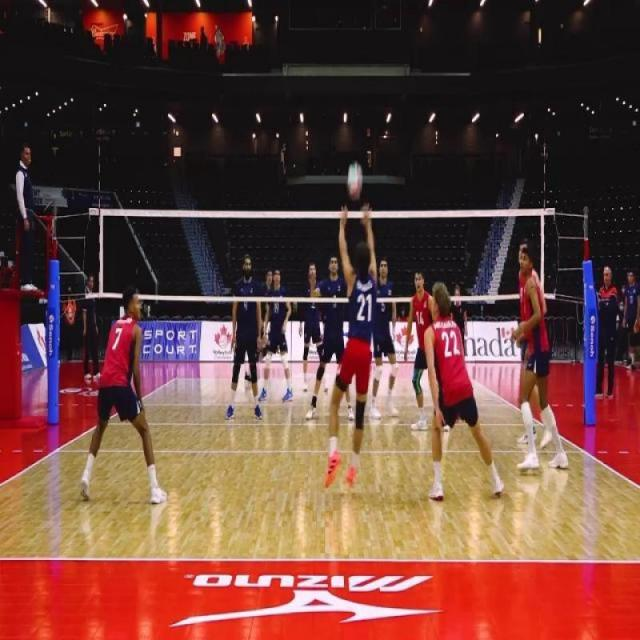volleyball: (346, 160, 364, 202)
